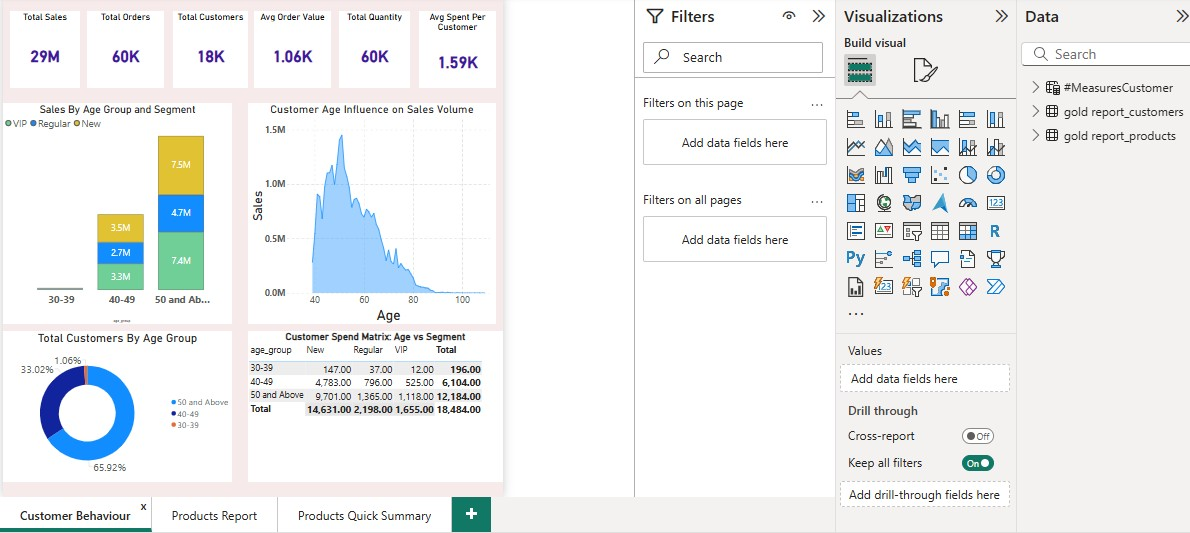

The page's visual inventory and layout, read from the dashboard file:
{"tool":"powerbi","page":{"name":"Customer Behaviour","canvas":[2000,2000],"ordinal":0},"visuals":[{"type":"columnChart","title":"Sales By Age Group and Segment","fields":{"Category":["gold report_customers.age_group"],"Series":["gold report_customers.customer_segment"],"Y":["Sum(gold report_customers.total_sales)"]},"box":[0,424,916,884],"z":0},{"type":"card","title":"Total Sales","fields":{"Values":["Sum(gold report_customers.total_sales)"]},"box":[28,56,280,308],"z":1000},{"type":"card","title":"Total Orders","fields":{"Values":["Sum(gold report_products.total_orders)"]},"box":[336,56,308,308],"z":2000},{"type":"card","title":"Total Customers","fields":{"Values":["#MeasuresCustomer.TotalCustomers"]},"box":[680,56,300,308],"z":3000},{"type":"card","title":"Total Quantity","fields":{"Values":["Sum(gold report_customers.total_quantity)"]},"box":[1344,56,284,308],"z":4000},{"type":"card","title":"Avg Order Value","fields":{"Values":["#MeasuresCustomer.Avg Order Value"]},"box":[1004,56,308,308],"z":5000},{"type":"card","title":"Avg Spent Per Customer","fields":{"Values":["#MeasuresCustomer.Avg Spent Per customer"]},"box":[1664,56,308,308],"z":6000},{"type":"pivotTable","title":"Customer Spend Matrix: Age vs Segment","fields":{"Rows":["gold report_customers.age_group"],"Columns":["gold report_customers.customer_segment"],"Values":["#MeasuresCustomer.SalebySpend"]},"box":[980,1336,1020,604],"z":7000},{"type":"lineChart","title":"Customer Age Influence on Sales Volume","fields":{"Y":["Sum(gold report_customers.total_sales)"],"Category":["gold report_customers.age"]},"box":[980,424,992,884],"z":8000},{"type":"donutChart","title":"Total Customers By Age Group","fields":{"Y":["#MeasuresCustomer.TotalCustomers"],"Category":["gold report_customers.age_group"]},"box":[0,1336,916,604],"z":9000}]}

Visuals, with their boxes on the page's 2000x2000 design canvas (x1, y1, x2, y2). These are canvas units, not pixel positions in the 1190x533 screenshot, which may show the page scaled, cropped or inside an application window:
"Sales By Age Group and Segment" columnChart: Rect(0, 424, 916, 1308)
"Total Sales" card: Rect(28, 56, 308, 364)
"Total Orders" card: Rect(336, 56, 644, 364)
"Total Customers" card: Rect(680, 56, 980, 364)
"Total Quantity" card: Rect(1344, 56, 1628, 364)
"Avg Order Value" card: Rect(1004, 56, 1312, 364)
"Avg Spent Per Customer" card: Rect(1664, 56, 1972, 364)
"Customer Spend Matrix: Age vs Segment" pivotTable: Rect(980, 1336, 2000, 1940)
"Customer Age Influence on Sales Volume" lineChart: Rect(980, 424, 1972, 1308)
"Total Customers By Age Group" donutChart: Rect(0, 1336, 916, 1940)
